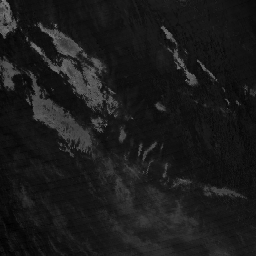Target: (104, 123, 108, 126)
